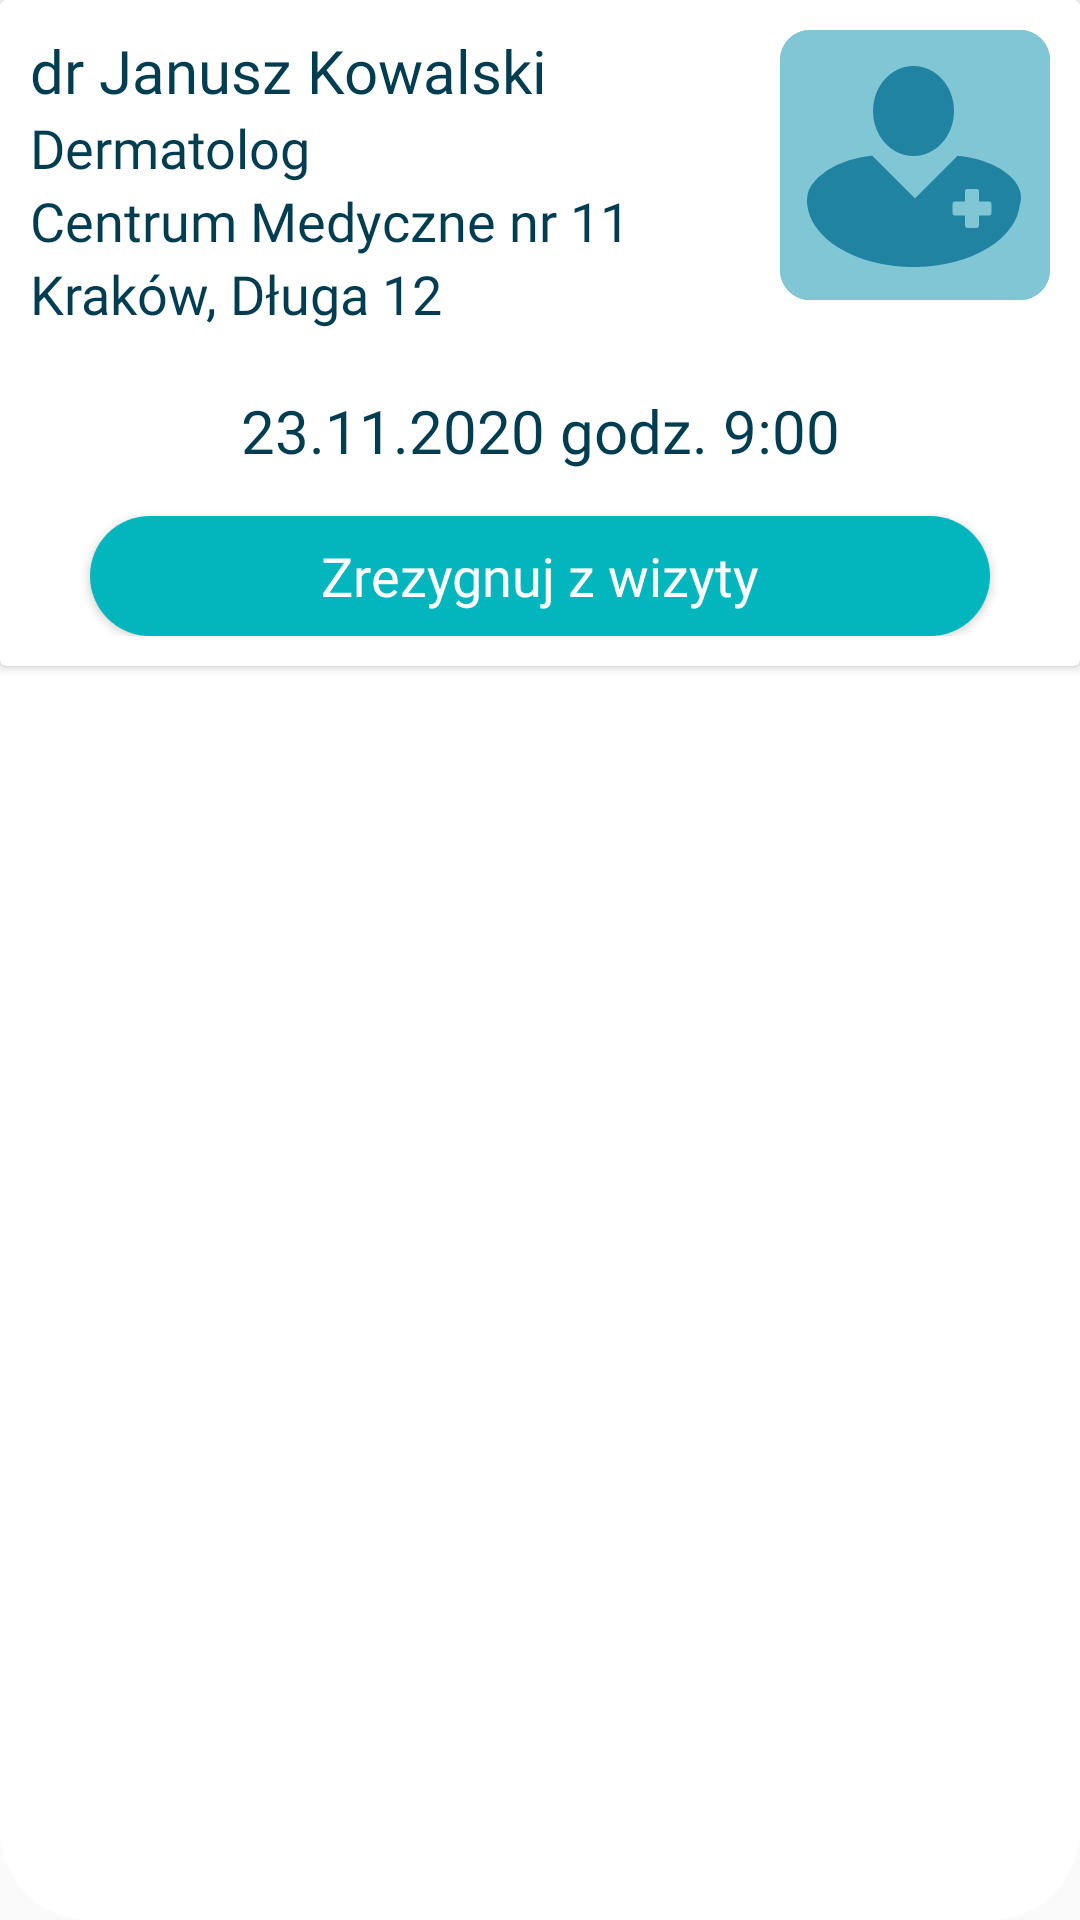

Icons on this 1080 x 1920 Android screen, each with its box as [x1=x1, y1=y1, x2=x2, y2=y2]:
profile pic: [x1=780, y1=30, x2=1050, y2=300]
